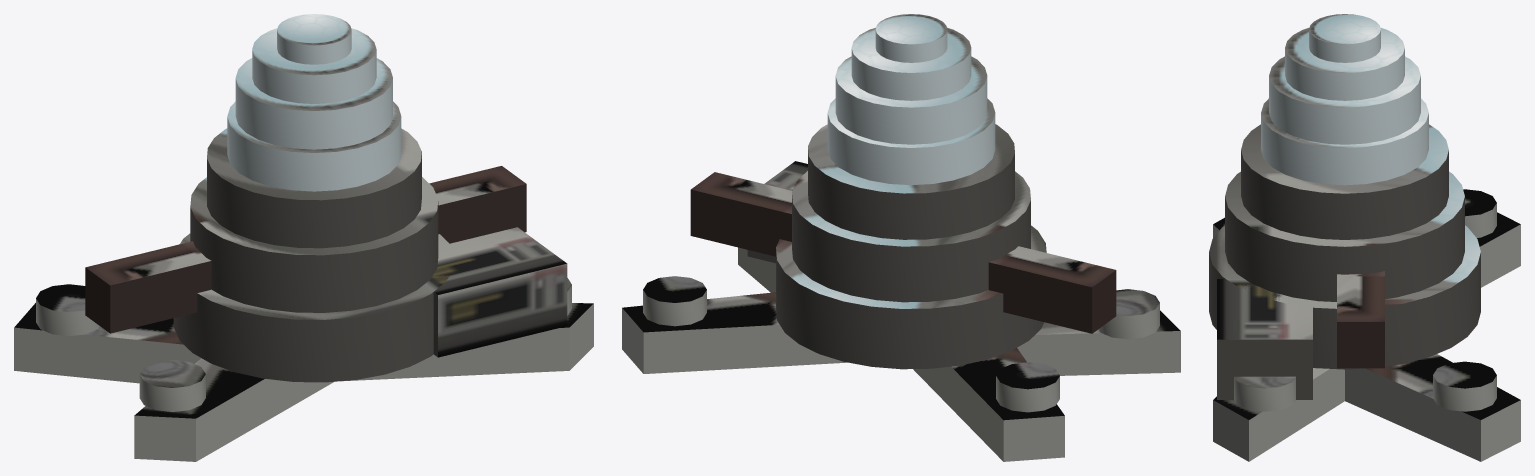
The model's file is Building_SleepSuppressor.obj.
The picture shows the model from 3 angles, left to right: view 1: azimuth 30°, elevation 25°; view 2: azimuth 150°, elevation 25°; view 3: azimuth 270°, elevation 25°; orthographic projection. The views are drawn at different scales.
Parts seen in each view (by area): view 1: Body; view 2: Body; view 3: Body.
Boxes of the visible parts, box(x1,y1,x2,y2) form: Body: box(14, 14, 593, 461); Body: box(622, 14, 1180, 461); Body: box(1209, 14, 1520, 461).
Size of the model in its own units: 1 by 0.7 by 0.6094.
1 material, 1 textured.
